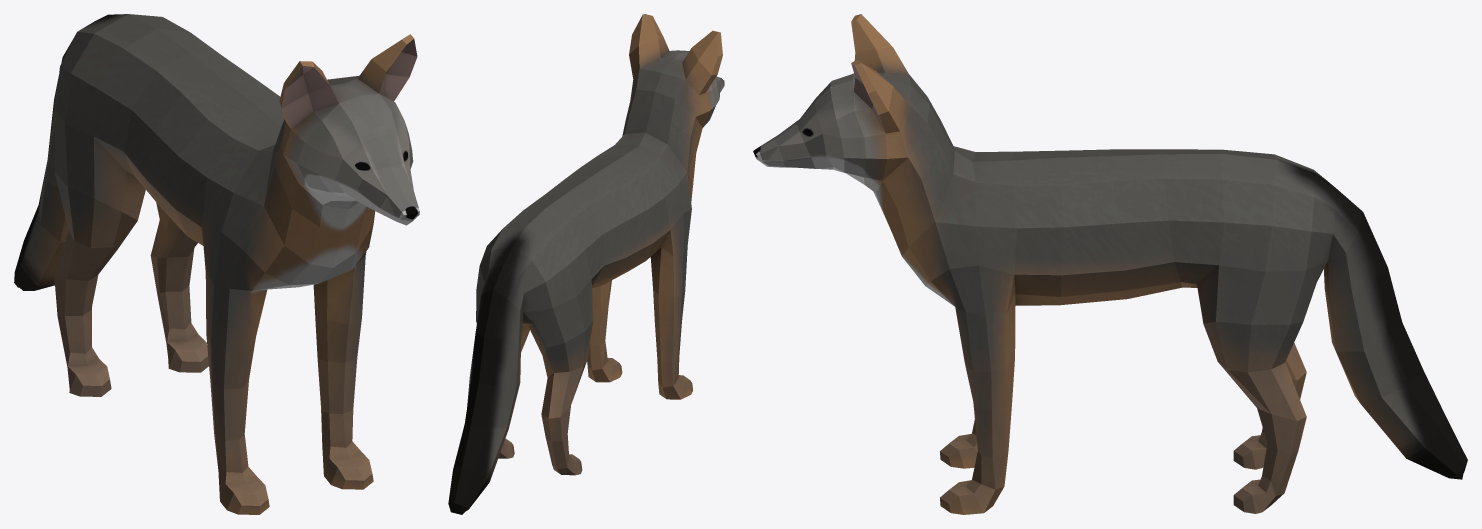
File: fox.glb
3 renders of one model, left to right at view 1: azimuth 30°, elevation 25°; view 2: azimuth 150°, elevation 25°; view 3: azimuth 270°, elevation 25°, orthographic. The views are drawn at different scales.
Visible parts, largest first — view 1: GrayFox_Mesh; view 2: GrayFox_Mesh; view 3: GrayFox_Mesh.
Boxes of the visible parts, x1,y1,x2,y2 form: GrayFox_Mesh: (14, 14, 419, 514); GrayFox_Mesh: (448, 14, 724, 514); GrayFox_Mesh: (753, 14, 1467, 514).
Bounding box in the file's own units: 1.15 × 3.62 × 5.28.
Materials: 1 (1 with a texture image).
